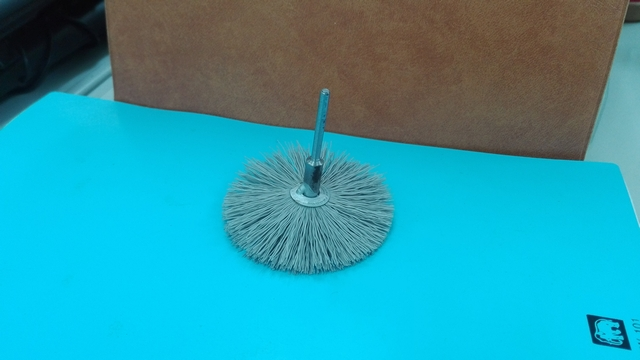TOOL: (181, 82, 426, 297), (244, 56, 439, 315), (219, 66, 395, 301)
